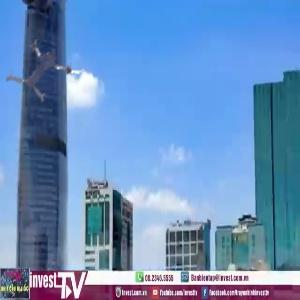drone: (4, 22, 88, 106)
